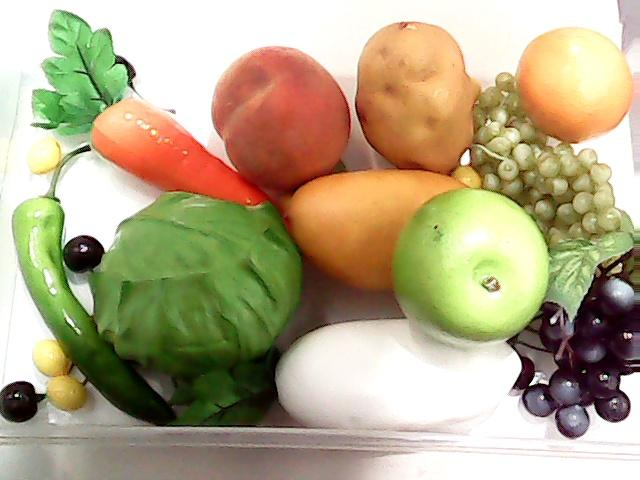apple: (386, 184, 550, 344)
cabbage: (86, 188, 302, 372)
carrot: (31, 6, 290, 244)
grape: (460, 66, 640, 272), (524, 239, 640, 437)
lemon: (514, 17, 640, 147)
mango: (291, 172, 509, 286)
peach: (210, 43, 352, 193)
pepper: (8, 172, 188, 422)
potato: (355, 20, 475, 176)
radish: (174, 316, 526, 452)
